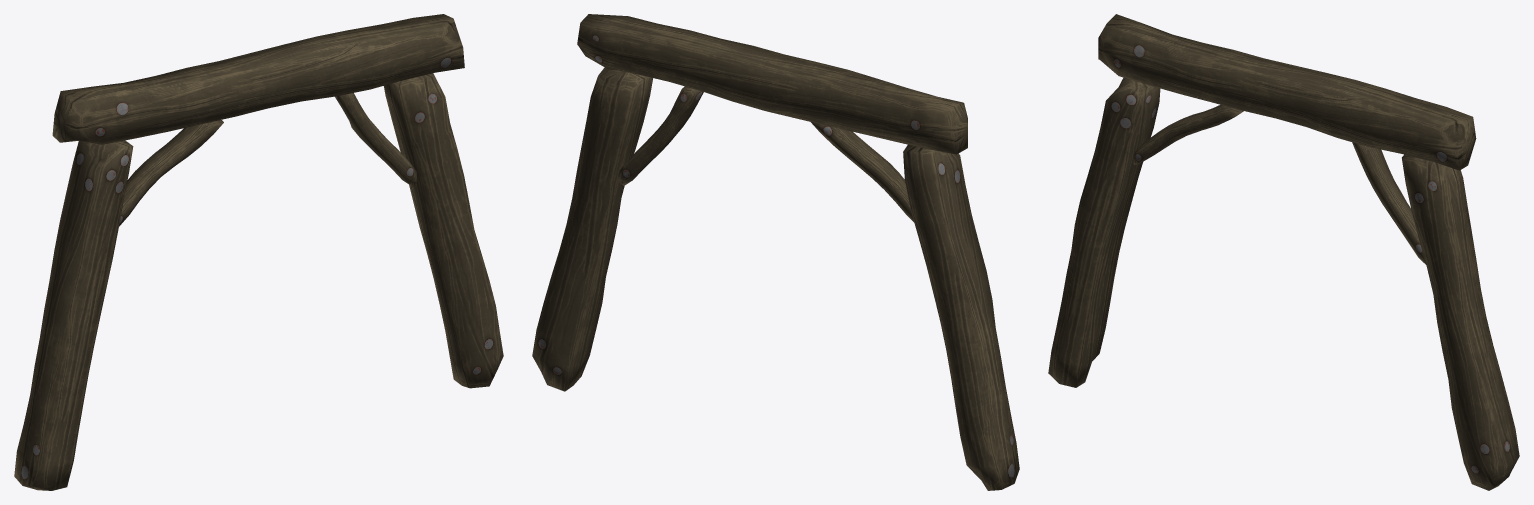
File: wood_poutre_C.fbx
3 views of the same model, side by side, from view 1: azimuth 30°, elevation 25°; view 2: azimuth 150°, elevation 25°; view 3: azimuth 330°, elevation 25° (orthographic). The views are drawn at different scales.
Visible parts, largest first — view 1: wood_poutre_C; view 2: wood_poutre_C; view 3: wood_poutre_C.
Part boxes in pixels (x1,y1,x2,y2): wood_poutre_C: [14, 14, 503, 490]; wood_poutre_C: [532, 14, 1019, 490]; wood_poutre_C: [1048, 14, 1519, 490].
Size of what is drawn, in the model's own units: 501 by 384 by 51.24.
Materials: 1 (1 with a texture image).
